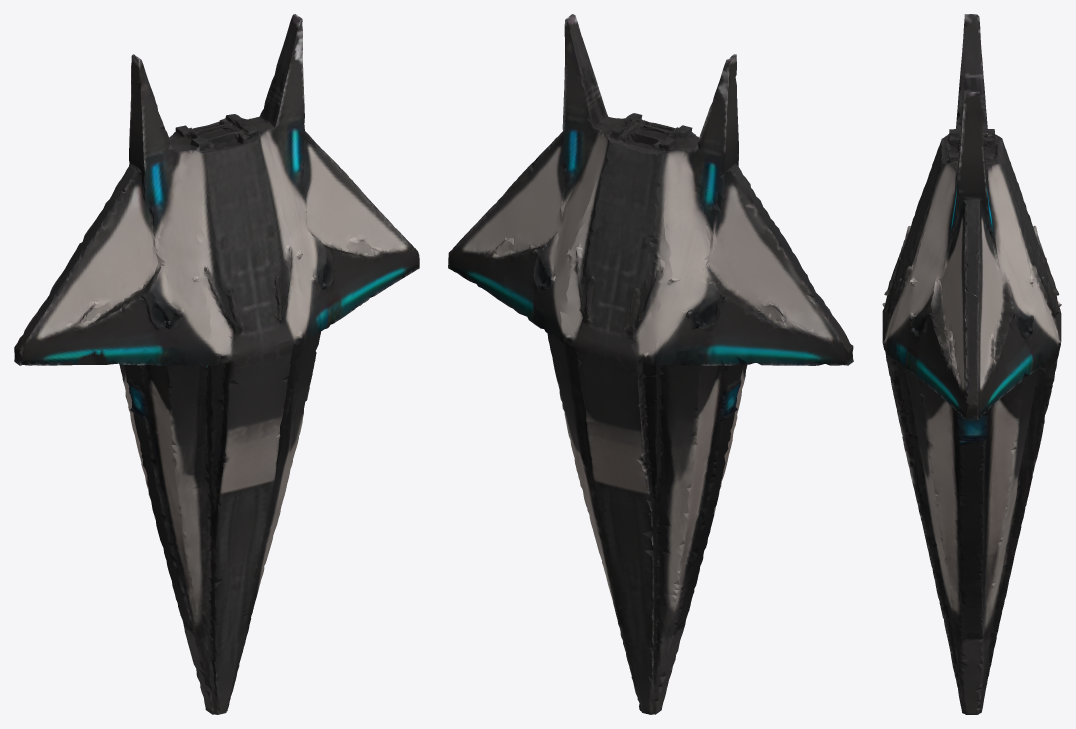
Rendered from rodin_Landing_Starwing_v2_raw.glb.
3 views of the same model, side by side, from view 1: azimuth 30°, elevation 25°; view 2: azimuth 150°, elevation 25°; view 3: azimuth 270°, elevation 25° (orthographic). The views are drawn at different scales.
Visible parts, largest first — view 1: model; view 2: model; view 3: model.
Boxes of the visible parts, x1,y1,x2,y2 form: model: (14, 14, 419, 714); model: (448, 14, 853, 714); model: (882, 14, 1061, 714).
Bounding box in the file's own units: 1.18 × 1.9 × 0.469.
1 material, 1 textured.
